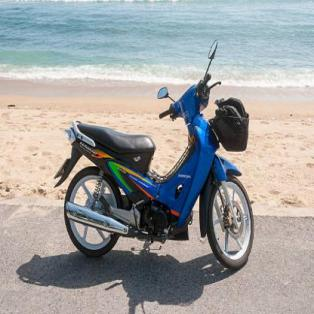Motocicleta: (52, 33, 260, 274)
